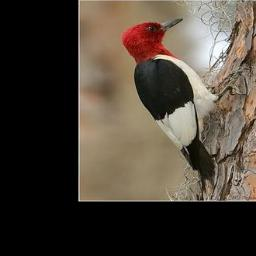Woodpecker: (119, 14, 248, 190)
